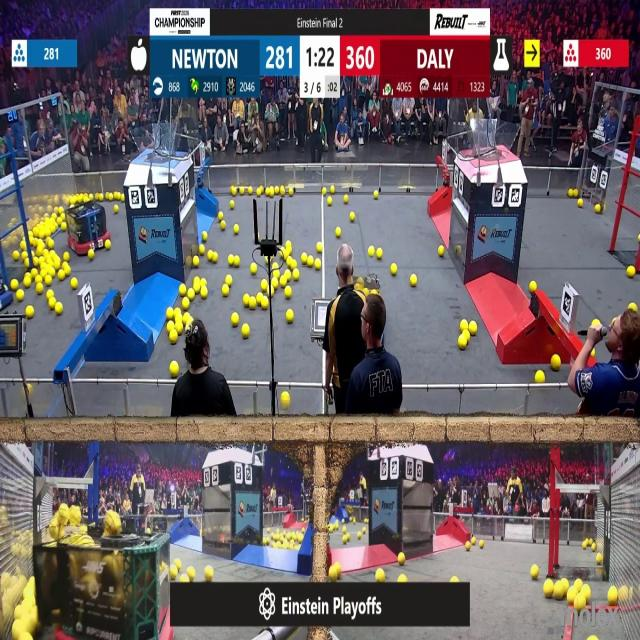ball_ground: (607, 589, 617, 607), (552, 354, 562, 370), (543, 582, 552, 599), (574, 593, 584, 608), (281, 392, 290, 408), (376, 568, 386, 582), (328, 566, 338, 580), (171, 360, 179, 376), (567, 588, 575, 604), (535, 371, 544, 384), (205, 567, 214, 580), (242, 324, 250, 338), (530, 565, 538, 579), (458, 337, 466, 351), (585, 586, 592, 602), (180, 571, 189, 582), (286, 310, 293, 324), (232, 314, 240, 326), (56, 304, 64, 316), (468, 322, 476, 334), (284, 287, 292, 299), (262, 280, 270, 292), (170, 333, 178, 344), (181, 300, 189, 311), (390, 265, 397, 277), (27, 307, 34, 319), (411, 275, 418, 287), (628, 267, 635, 279), (397, 554, 404, 566), (16, 289, 23, 301), (168, 308, 175, 320), (263, 297, 270, 309), (308, 254, 315, 266), (187, 567, 194, 579), (249, 299, 256, 311), (171, 566, 178, 578), (32, 270, 40, 280), (174, 309, 182, 319), (201, 287, 208, 298), (211, 251, 218, 262), (221, 285, 228, 296), (25, 277, 32, 288), (10, 280, 17, 291), (71, 278, 77, 290), (244, 294, 250, 306), (225, 276, 231, 288), (182, 313, 190, 322), (64, 264, 70, 276), (191, 256, 198, 266), (59, 271, 66, 281), (36, 284, 43, 294), (272, 279, 279, 289), (460, 320, 467, 330), (316, 243, 323, 253), (292, 271, 299, 281), (46, 240, 53, 250), (596, 555, 603, 565), (530, 281, 536, 292), (180, 284, 186, 295), (251, 265, 257, 276), (315, 260, 321, 271), (235, 255, 241, 266), (377, 248, 383, 259), (176, 322, 182, 333), (398, 574, 406, 582), (451, 575, 459, 583), (168, 321, 175, 330), (44, 277, 51, 286), (299, 253, 306, 262), (12, 251, 19, 260), (572, 188, 579, 197), (90, 250, 96, 260), (200, 245, 206, 255), (187, 287, 193, 297), (350, 212, 356, 222), (48, 301, 54, 311), (34, 256, 40, 266), (290, 260, 296, 270), (25, 258, 31, 268), (343, 534, 349, 544), (46, 289, 53, 297), (272, 271, 279, 279), (285, 241, 292, 249), (56, 257, 61, 268), (105, 241, 111, 250), (596, 205, 602, 214), (227, 255, 233, 264), (367, 247, 373, 256), (64, 252, 70, 261), (280, 278, 286, 287), (203, 233, 209, 242), (631, 304, 637, 313), (326, 198, 332, 207), (255, 293, 261, 302), (440, 246, 445, 256), (235, 223, 240, 233), (337, 229, 342, 239), (229, 201, 234, 211), (108, 192, 114, 200), (193, 278, 199, 286), (371, 190, 377, 198), (270, 288, 276, 296), (267, 188, 273, 196), (99, 192, 105, 200), (62, 222, 68, 230), (232, 186, 237, 195), (280, 186, 285, 195), (201, 279, 207, 286), (43, 249, 49, 256), (220, 221, 225, 229), (465, 541, 470, 549), (577, 200, 582, 208), (568, 188, 573, 196), (218, 212, 223, 220), (329, 185, 334, 193), (240, 187, 245, 195), (39, 255, 44, 263), (344, 194, 348, 203), (23, 252, 29, 258), (114, 206, 118, 214), (481, 539, 485, 547), (471, 536, 475, 544), (120, 192, 124, 200), (322, 187, 326, 195), (289, 188, 293, 196), (357, 535, 361, 542), (256, 188, 260, 195), (248, 187, 252, 194), (592, 543, 596, 550), (636, 236, 640, 243), (591, 636, 597, 640), (266, 255, 269, 262)
goal: (465, 121, 522, 159), (131, 129, 188, 160)
robot_red: (36, 531, 169, 640), (66, 198, 109, 256)
